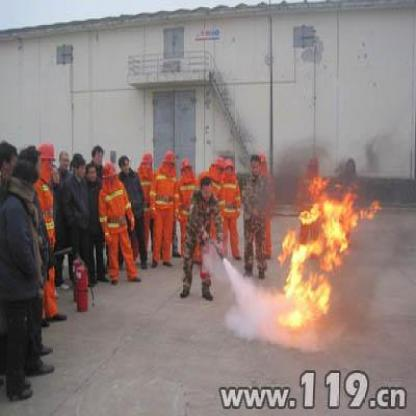fire: (270, 162, 382, 338)
other: (34, 128, 67, 327), (135, 144, 183, 262), (95, 156, 138, 285), (208, 140, 239, 258)
